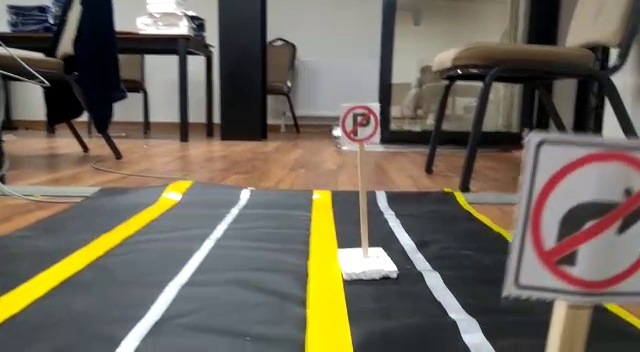park_yapilmaz: (337, 104, 382, 145)
saga_donulmez: (530, 138, 640, 294)
